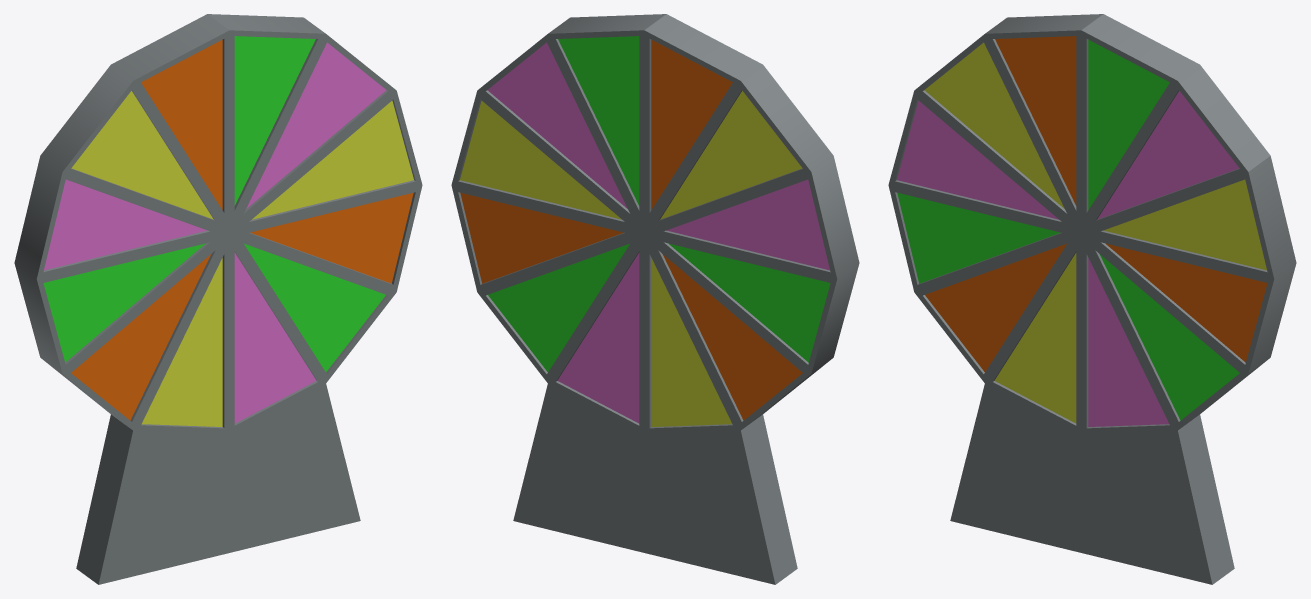
The model's file is Whell.fbx.
3 views of the same model, side by side, from view 1: azimuth 30°, elevation 25°; view 2: azimuth 150°, elevation 25°; view 3: azimuth 330°, elevation 25° (orthographic).
Parts seen in each view (by area): view 1: Cylinder.002; view 2: Cylinder.002; view 3: Cylinder.002.
Boxes of the visible parts, box(x1,y1,x2,y2) form: Cylinder.002: box(14, 14, 422, 584); Cylinder.002: box(451, 14, 859, 584); Cylinder.002: box(888, 14, 1296, 584).
Bounding box in the file's own units: 60.1 × 77.79 × 6.01.
